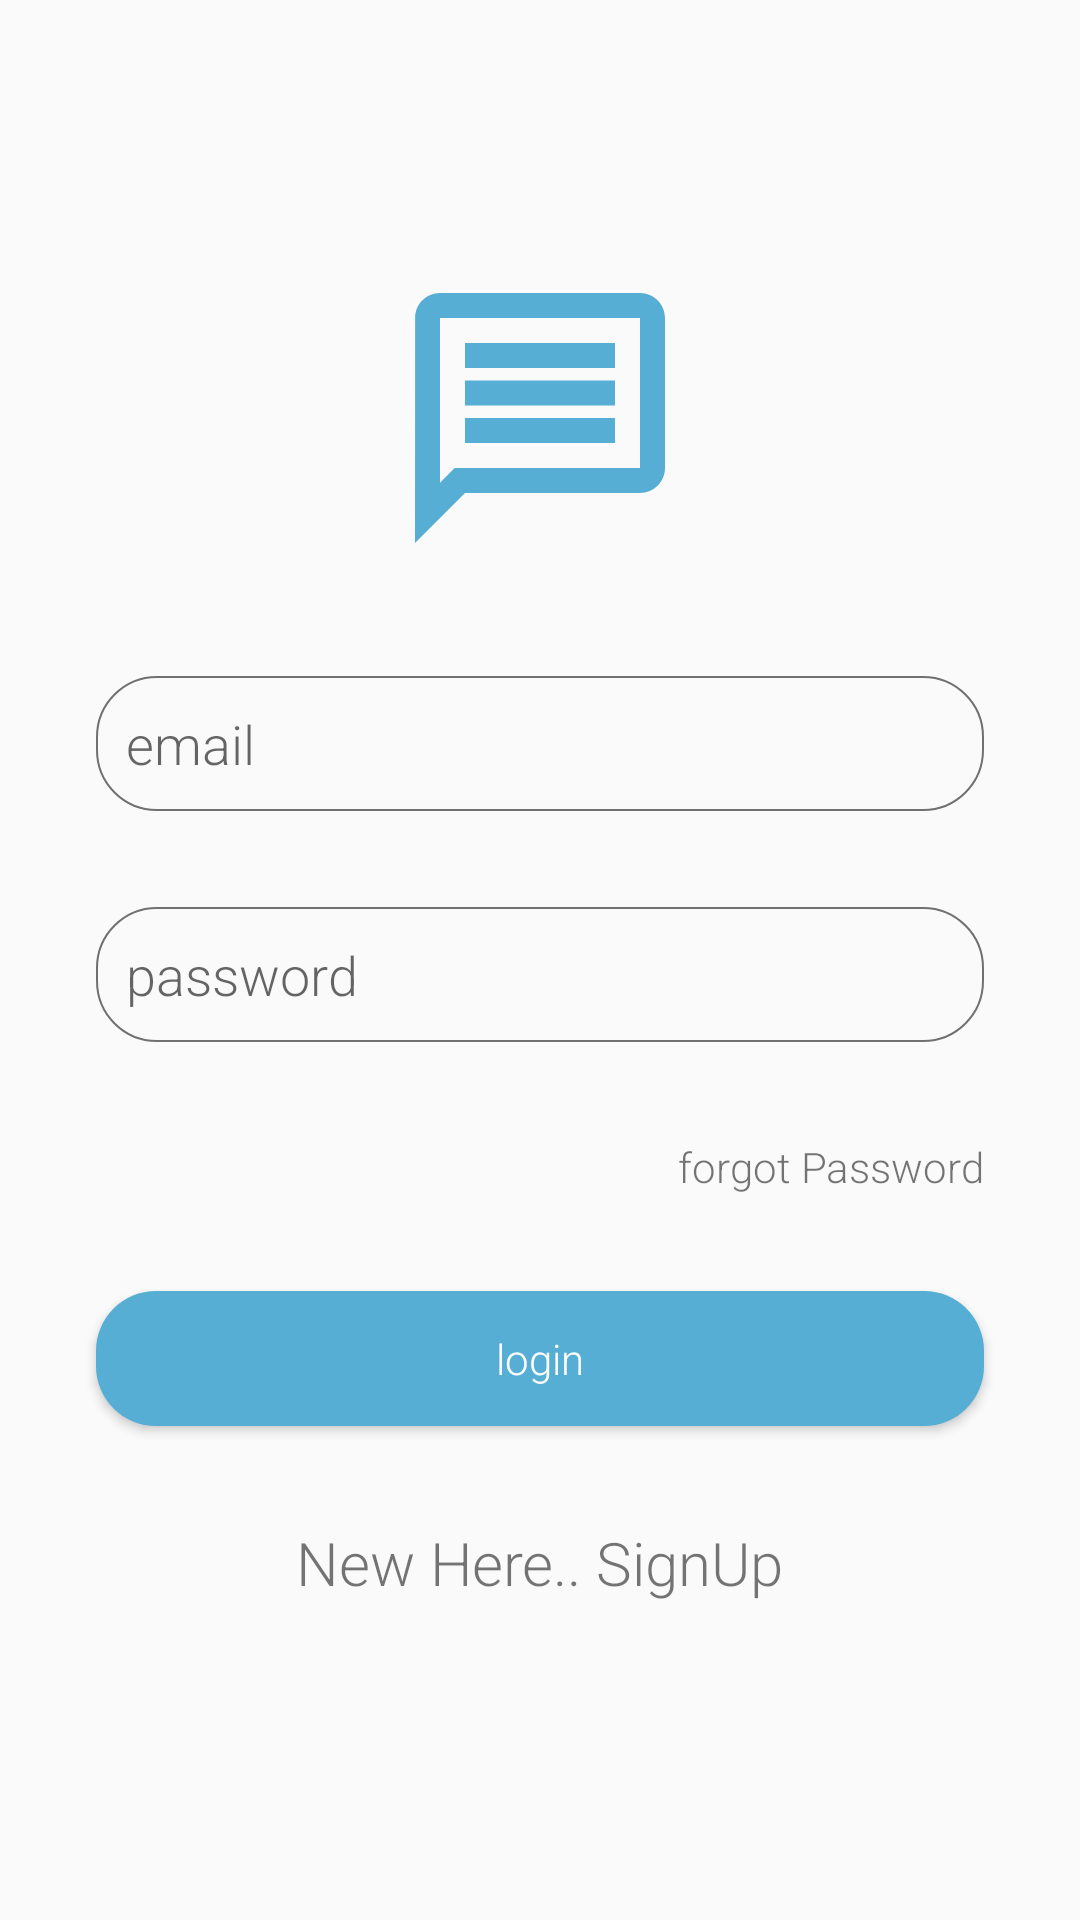

Screen size 1080 × 1920. Icon name, then its center in pixels as (x,y):
message: (540,418)
